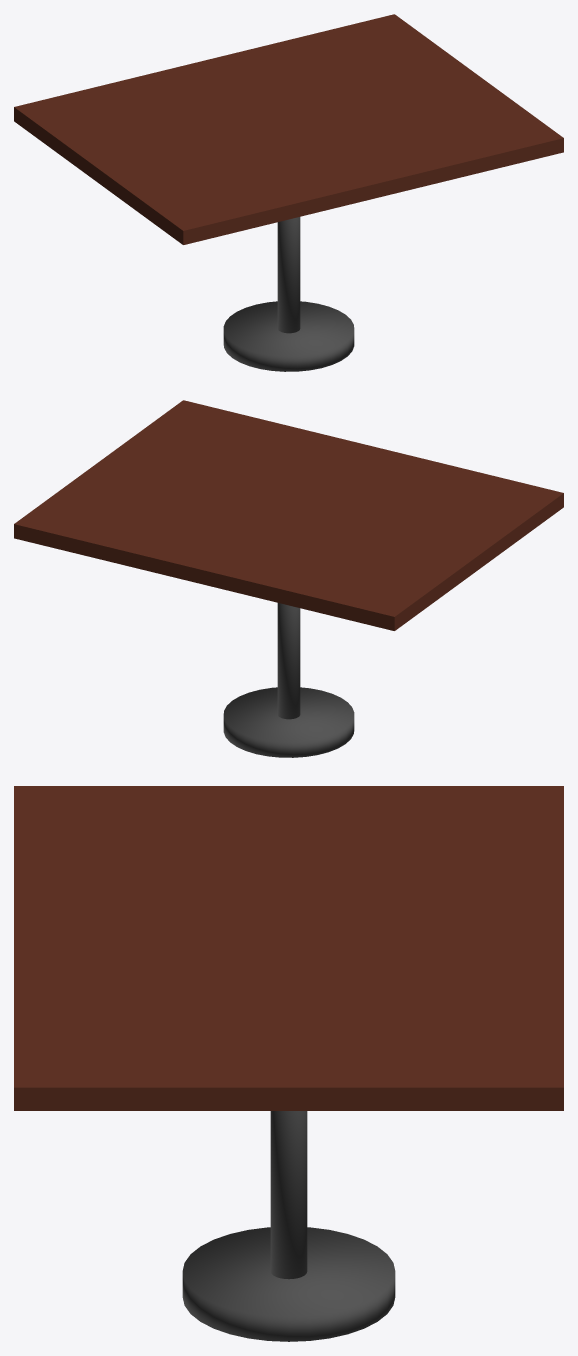
The model's file is Table.fbx.
3 views of the same model, one above another, from view 1: azimuth 30°, elevation 25°; view 2: azimuth 150°, elevation 25°; view 3: azimuth 270°, elevation 25° (orthographic). The views are drawn at different scales.
Visible parts, largest first — view 1: Table; view 2: Table; view 3: Table.
Boxes of the visible parts, <box> form: Table: <box>14,14,563,371</box>; Table: <box>14,400,563,757</box>; Table: <box>14,786,563,1341</box>.
Bounding box in the file's own units: 101 × 56.4 × 78.11.
